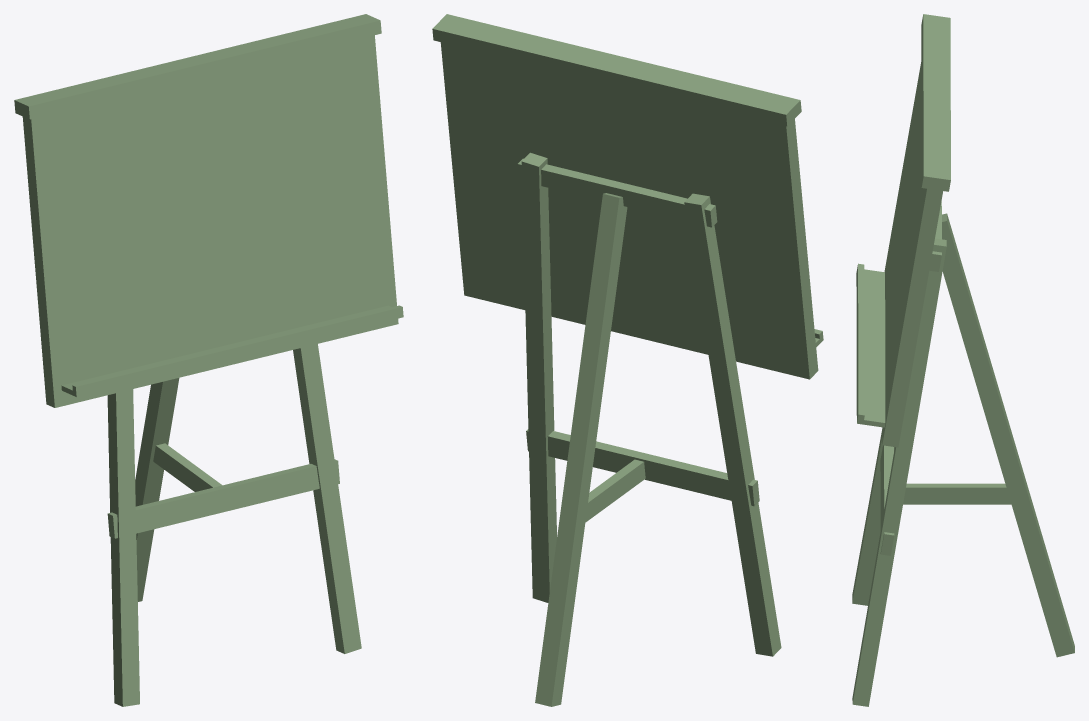
Rendered from Easel.fbx.
3 renders of one model, left to right at view 1: azimuth 30°, elevation 25°; view 2: azimuth 150°, elevation 25°; view 3: azimuth 270°, elevation 25°, orthographic. The views are drawn at different scales.
Visible parts, largest first — view 1: Easel; view 2: Easel; view 3: Easel.
Boxes of the visible parts, x1,y1,x2,y2 form: Easel: (14,14,403,706); Easel: (432,14,823,706); Easel: (852,14,1074,706).
Bounding box in the file's own units: 81.37 × 131 × 47.18.
